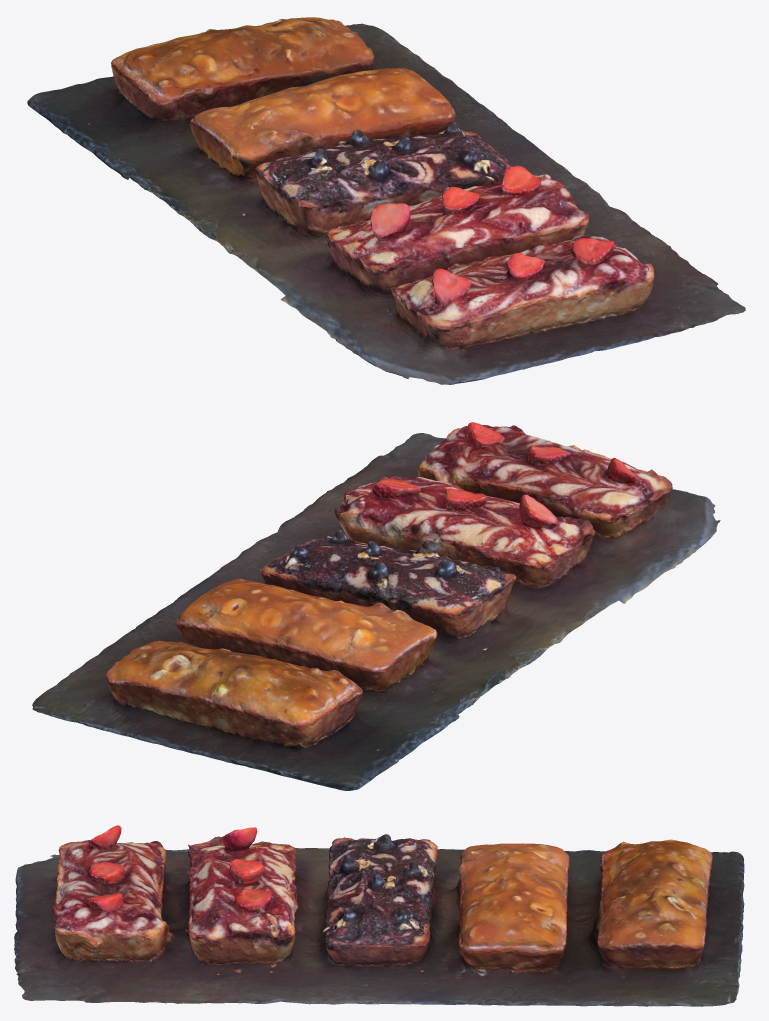
File: 4 ta keik toot farqngi full 3.5).glb
The picture shows the model from 3 angles, top to bottom: view 1: azimuth 30°, elevation 25°; view 2: azimuth 150°, elevation 25°; view 3: azimuth 270°, elevation 25°; orthographic projection. The views are drawn at different scales.
Visible parts, largest first — view 1: object 1; view 2: object 1; view 3: object 1.
Boxes of the visible parts, x1,y1,x2,y2 form: object 1: [27, 17, 745, 384]; object 1: [32, 422, 720, 790]; object 1: [14, 825, 744, 1006].
Bounding box in the file's own units: 0.161 × 0.0325 × 0.3138.
Materials: 2 (1 with a texture image).
